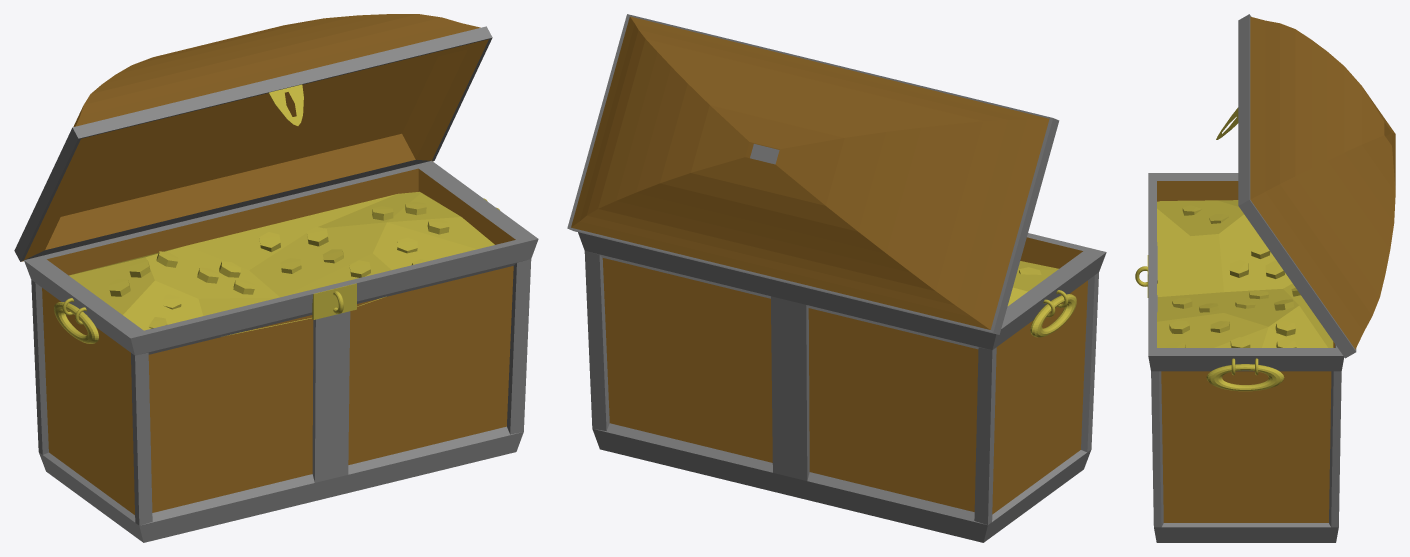
Rendered from TreasureChestfbx.fbx.
3 renders of one model, left to right at view 1: azimuth 30°, elevation 25°; view 2: azimuth 150°, elevation 25°; view 3: azimuth 270°, elevation 25°, orthographic. The views are drawn at different scales.
Visible parts, largest first — view 1: TreasureBox, GoldCoins.001; view 2: TreasureBox, GoldCoins.001; view 3: TreasureBox, GoldCoins.001.
Boxes of the visible parts, x1,y1,x2,y2 form: TreasureBox: (14, 14, 538, 542); GoldCoins.001: (69, 191, 494, 335); TreasureBox: (567, 14, 1106, 542); GoldCoins.001: (1007, 261, 1058, 305); TreasureBox: (1135, 14, 1395, 542); GoldCoins.001: (1157, 200, 1333, 347).
Bounding box in the file's own units: 169 × 147 × 97.59.
